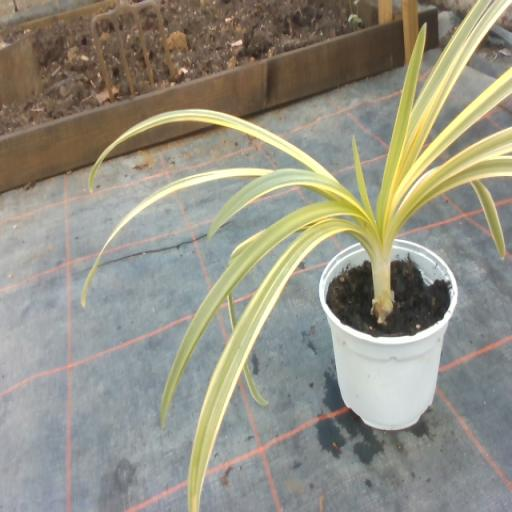Agapanthus-praecox: (189, 219, 362, 511), (161, 203, 334, 423), (82, 167, 272, 307), (391, 0, 511, 191), (90, 109, 327, 191), (398, 75, 511, 191), (209, 170, 362, 236), (400, 128, 511, 212), (378, 29, 425, 218), (427, 157, 511, 196), (471, 181, 504, 258), (353, 138, 375, 226)
